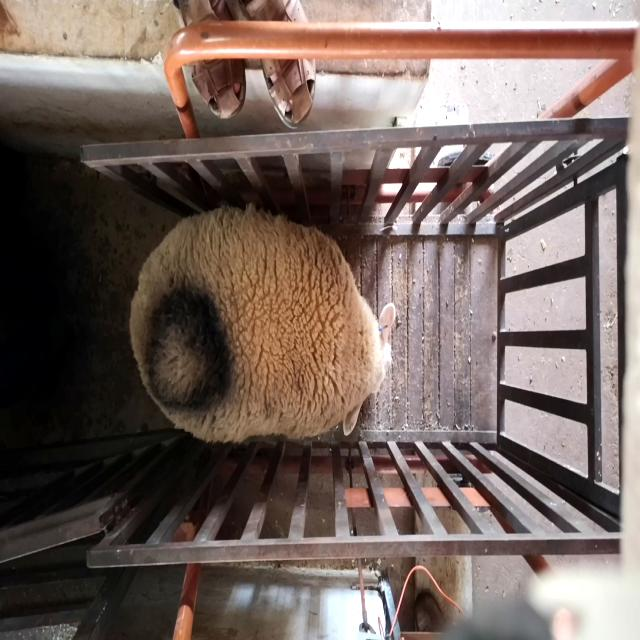sheep: (130, 204, 396, 445)
